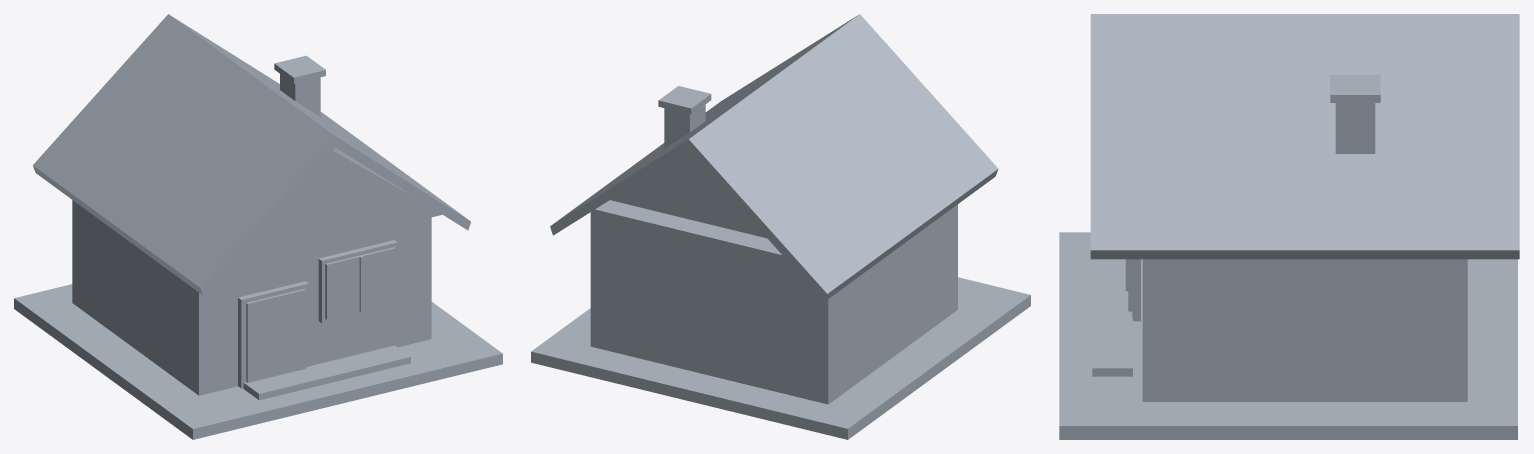
The model's file is chalet.glb.
3 views of the same model, side by side, from view 1: azimuth 30°, elevation 25°; view 2: azimuth 150°, elevation 25°; view 3: azimuth 270°, elevation 25° (orthographic). The views are drawn at different scales.
Visible parts, largest first — view 1: chalet-darkShingle-13, chalet-cedar-2, chalet-stone-1, chalet-cedar-12, chalet-glass-6, chalet-glass-8, chalet-cedar-4, chalet-trim-5, chalet-trim-7, chalet-stone-10, chalet-stone-11; view 2: chalet-darkShingle-13, chalet-cedar-2, chalet-stone-1, chalet-cedar-12, chalet-stone-10, chalet-stone-11; view 3: chalet-darkShingle-13, chalet-cedar-2, chalet-stone-1, chalet-cedar-4, chalet-stone-10, chalet-stone-11, chalet-trim-7.
Part boxes in pixels (bbox=[...]): chalet-darkShingle-13: bbox=[33, 14, 470, 294]; chalet-cedar-2: bbox=[72, 200, 431, 395]; chalet-stone-1: bbox=[14, 284, 502, 439]; chalet-cedar-12: bbox=[229, 147, 442, 266]; chalet-glass-6: bbox=[246, 289, 305, 382]; chalet-glass-8: bbox=[325, 247, 395, 319]; chalet-cedar-4: bbox=[243, 345, 410, 400]; chalet-trim-5: bbox=[238, 281, 308, 388]; chalet-trim-7: bbox=[318, 240, 397, 323]; chalet-stone-10: bbox=[280, 74, 320, 116]; chalet-stone-11: bbox=[274, 55, 325, 83]; chalet-darkShingle-13: bbox=[550, 14, 998, 301]; chalet-cedar-2: bbox=[590, 200, 957, 404]; chalet-stone-1: bbox=[531, 277, 1030, 439]; chalet-cedar-12: bbox=[610, 151, 766, 238]; chalet-stone-10: bbox=[664, 104, 705, 148]; chalet-stone-11: bbox=[658, 86, 711, 114]; chalet-darkShingle-13: bbox=[1090, 14, 1519, 259]; chalet-cedar-2: bbox=[1142, 259, 1467, 401]; chalet-stone-1: bbox=[1059, 232, 1517, 439]; chalet-cedar-4: bbox=[1092, 273, 1132, 376]; chalet-stone-10: bbox=[1335, 103, 1375, 153]; chalet-stone-11: bbox=[1330, 75, 1380, 102]; chalet-trim-7: bbox=[1132, 259, 1140, 318].
Bounding box in the file's own units: 9.6 × 7.6 × 9.64.
